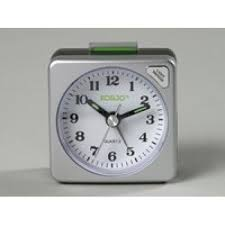alarm_clock: (46, 41, 180, 182)
